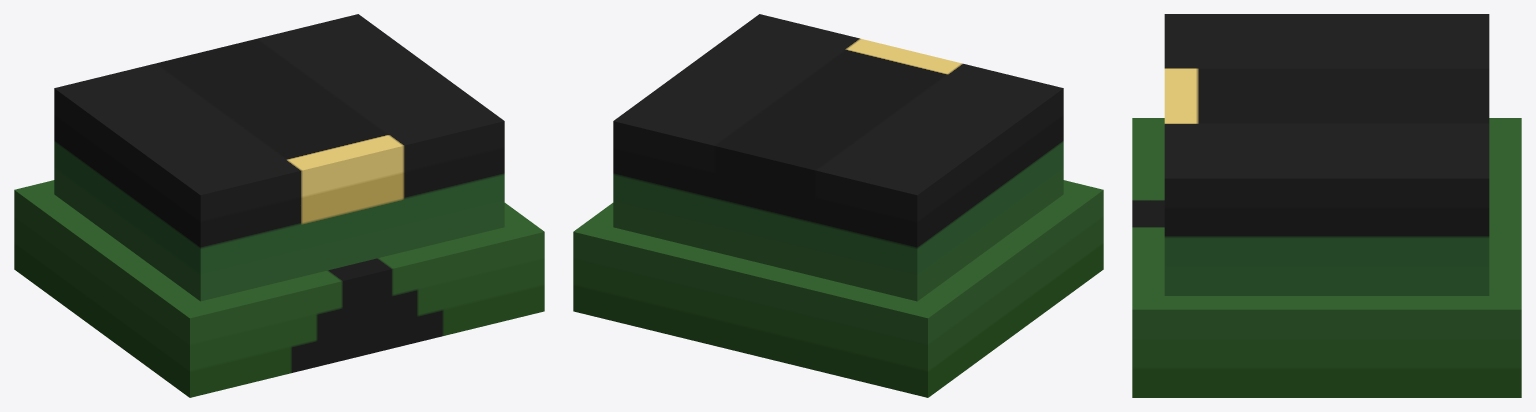
The picture shows the model from 3 angles, left to right: view 1: azimuth 30°, elevation 25°; view 2: azimuth 150°, elevation 25°; view 3: azimuth 270°, elevation 25°; orthographic projection. The views are drawn at different scales.
Parts seen in each view (by area): view 1: Root067; view 2: Root067; view 3: Root067.
Part boxes in pixels (x1,y1,x2,y2): Root067: [14, 14, 544, 397]; Root067: [573, 14, 1103, 397]; Root067: [1132, 14, 1521, 397].
Bounding box in the file's own units: 14 × 7 × 12.
